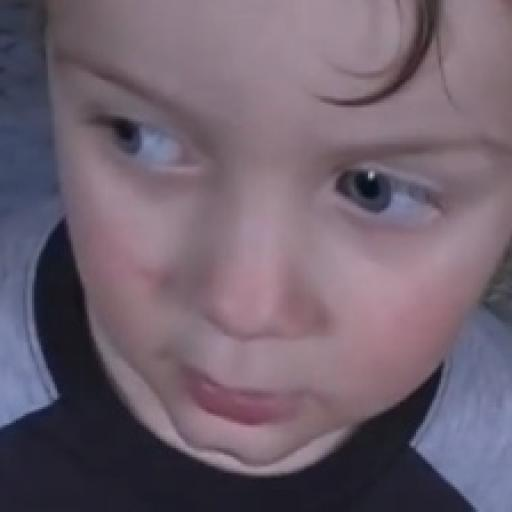Autism: (9, 0, 512, 466)
